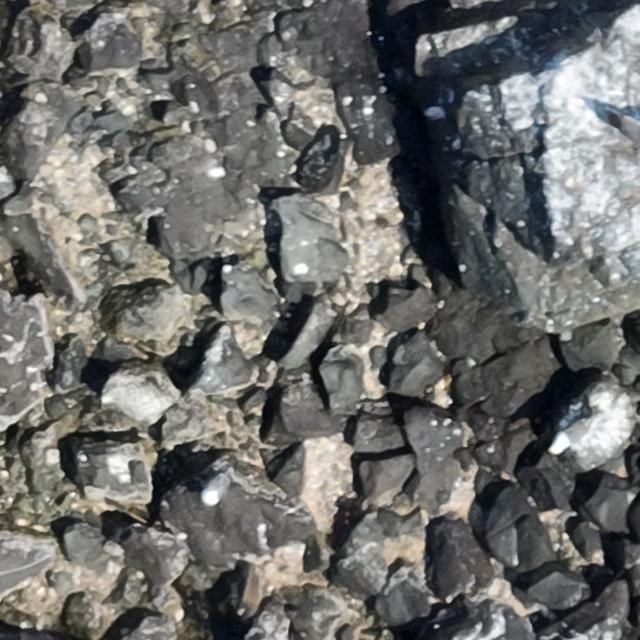umineko: (549, 413, 599, 455), (201, 473, 227, 505)
